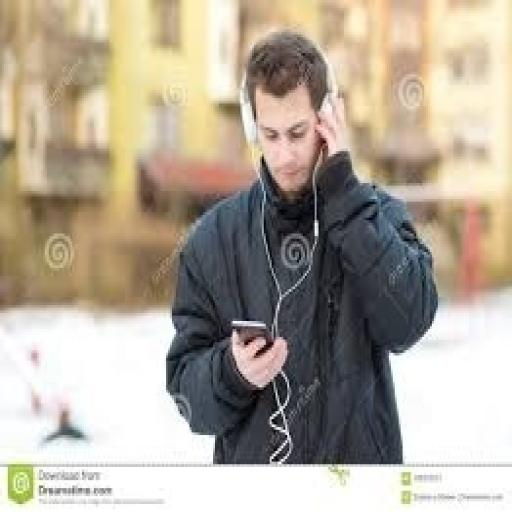listening_to_music: (162, 27, 440, 464)
